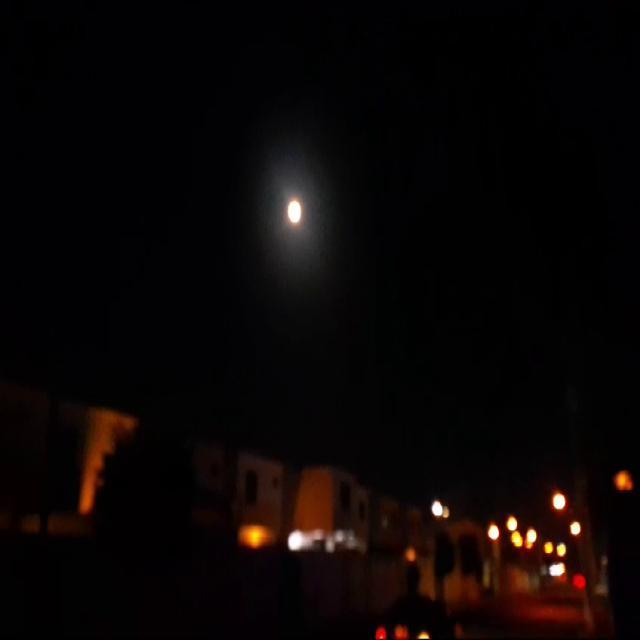moon: (268, 191, 288, 225)
